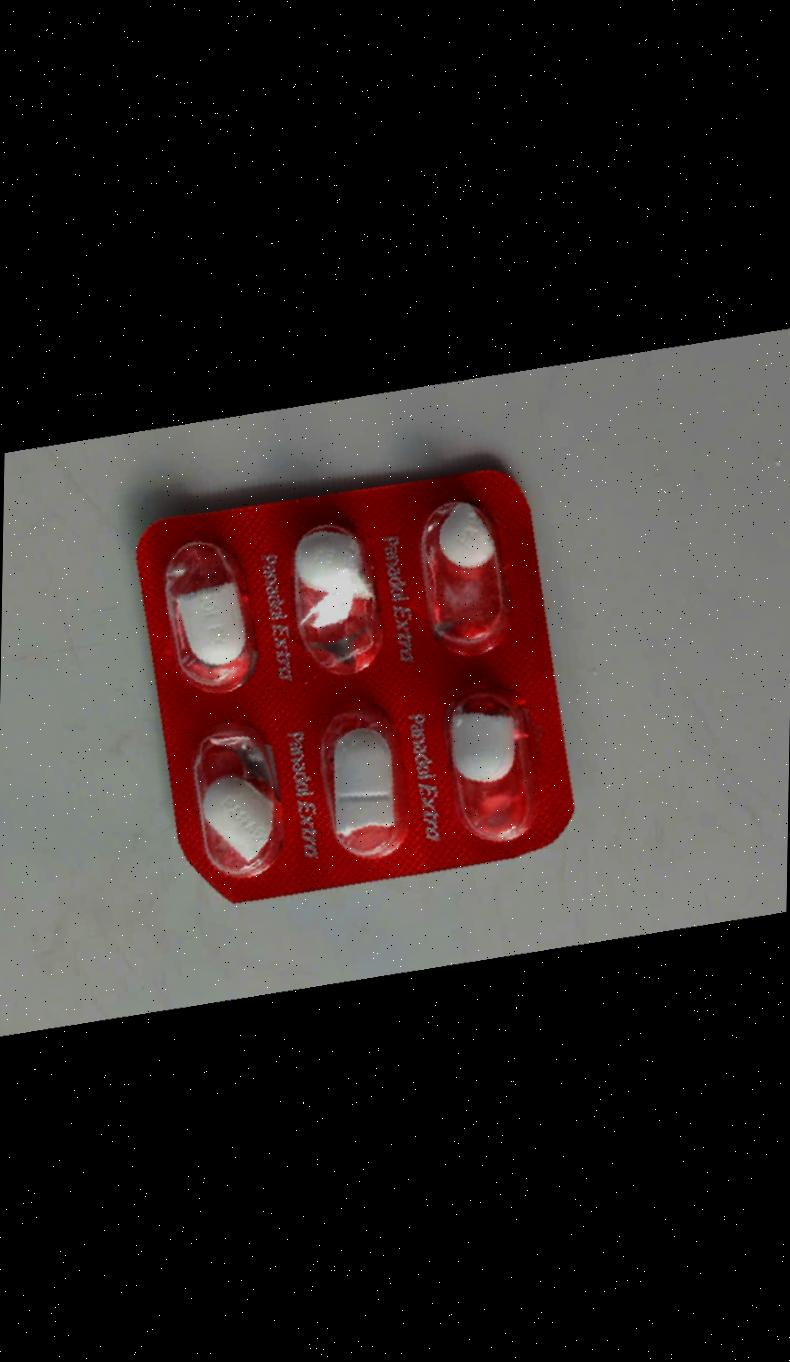Partial: (201, 696, 318, 875), (293, 508, 409, 688), (412, 486, 528, 666), (435, 676, 551, 856), (181, 715, 297, 894), (313, 684, 429, 863), (152, 531, 268, 710)
